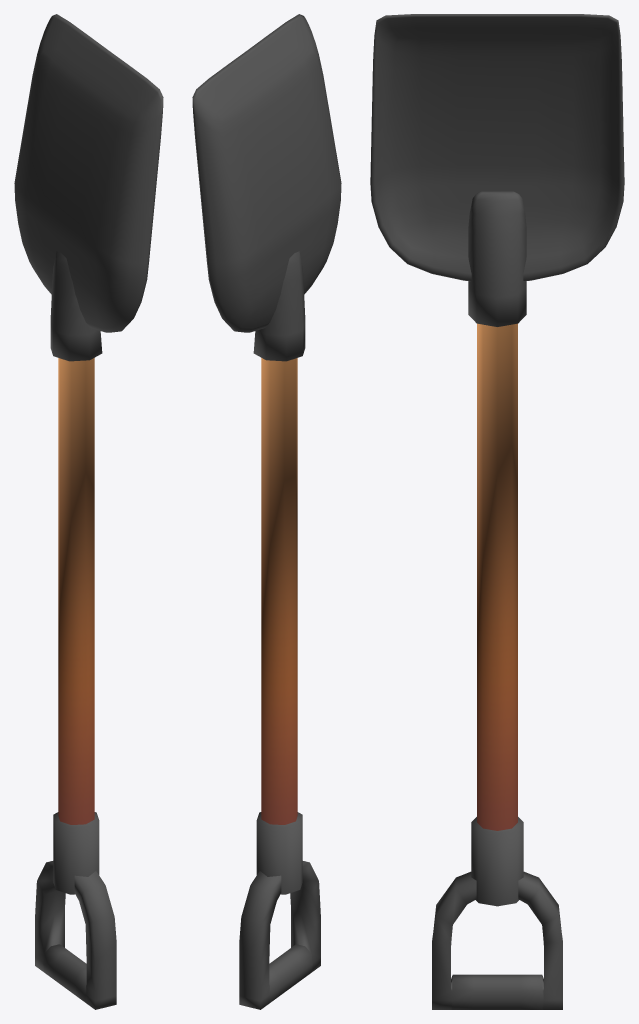
The model's file is toolsShovel.fbx.
3 views of the same model, side by side, from view 1: azimuth 30°, elevation 25°; view 2: azimuth 150°, elevation 25°; view 3: azimuth 270°, elevation 25° (orthographic). The views are drawn at different scales.
Visible parts, largest first — view 1: Shovel; view 2: Shovel; view 3: Shovel.
Boxes of the visible parts, left/top/right/bottom form: Shovel: left=14, top=14, right=163, bottom=1009; Shovel: left=192, top=14, right=341, bottom=1009; Shovel: left=370, top=14, right=624, bottom=1009.
Size of the model in its own units: 32.65 by 524 by 120.
